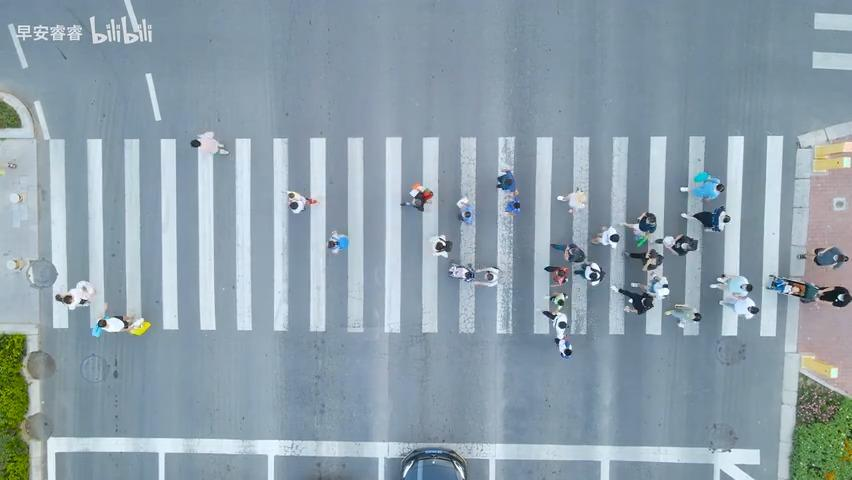Civilian: (708, 273, 759, 316), (766, 274, 831, 303), (542, 310, 572, 358), (609, 284, 655, 315), (680, 205, 731, 232), (618, 211, 656, 247), (679, 171, 724, 201), (796, 246, 848, 271), (448, 261, 499, 286), (54, 280, 95, 310), (95, 311, 134, 341), (190, 130, 229, 156), (654, 233, 698, 256), (400, 182, 433, 211), (623, 248, 664, 271), (280, 189, 318, 213), (663, 303, 701, 327), (556, 186, 586, 214), (813, 285, 851, 307), (573, 260, 605, 286), (495, 166, 519, 198), (550, 242, 586, 263), (640, 273, 669, 298), (542, 292, 568, 319), (590, 225, 619, 248), (456, 195, 474, 225), (327, 229, 348, 254), (430, 234, 452, 257), (543, 265, 568, 285), (503, 197, 520, 217)
